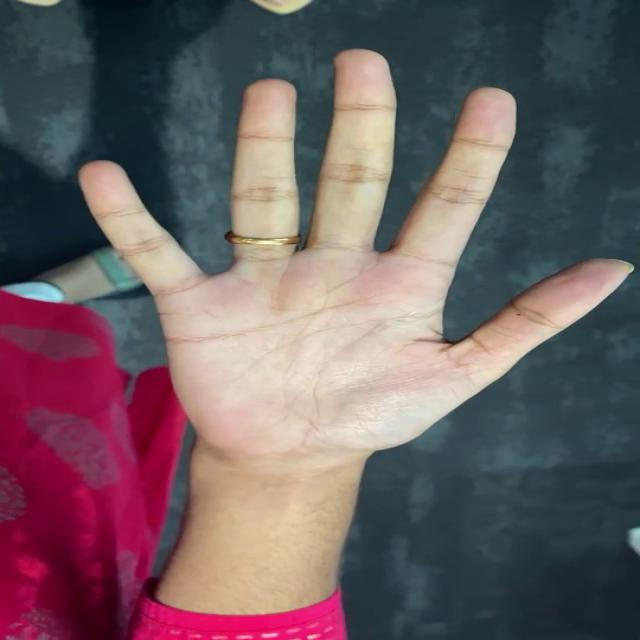no-gloves: (3, 19, 640, 477)
